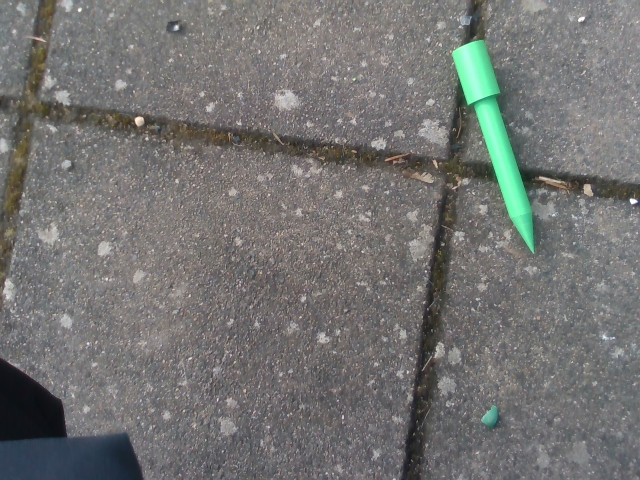Probe: (446, 33, 540, 264)
